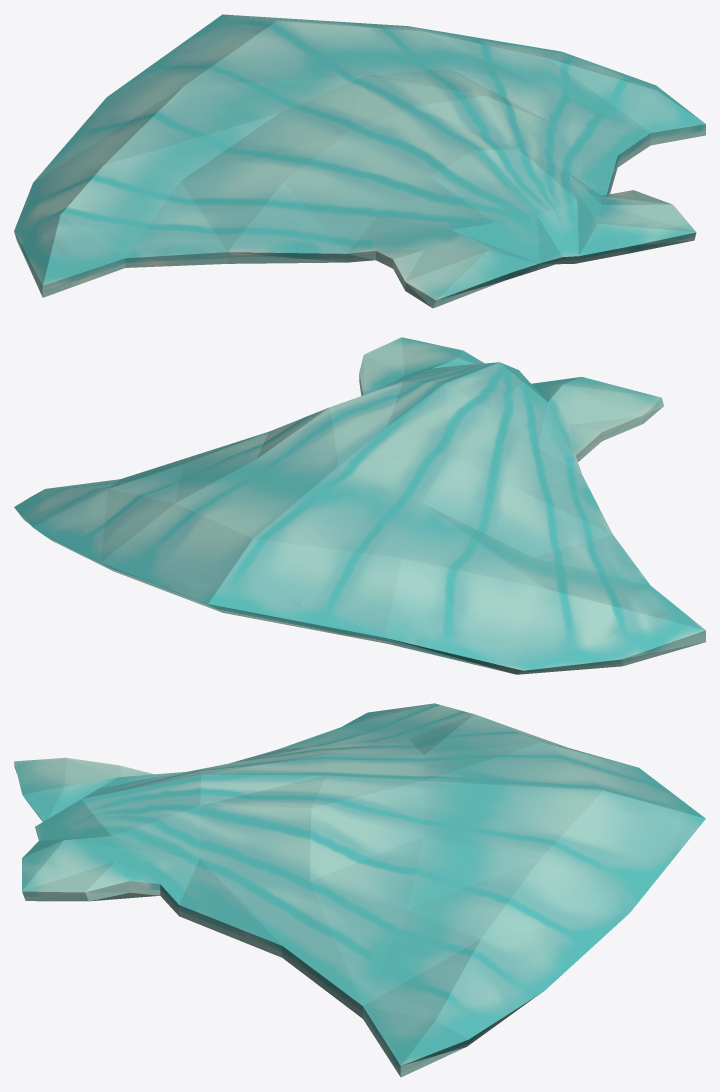
The model's file is Shell1.fbx.
The picture shows the model from 3 angles, top to bottom: view 1: azimuth 30°, elevation 25°; view 2: azimuth 150°, elevation 25°; view 3: azimuth 270°, elevation 25°; orthographic projection. The views are drawn at different scales.
Parts seen in each view (by area): view 1: pCube1; view 2: pCube1; view 3: pCube1.
Boxes of the visible parts, x1=… form: pCube1: x1=14, y1=14, x2=705, y2=308; pCube1: x1=14, y1=337, x2=705, y2=674; pCube1: x1=14, y1=703, x2=705, y2=1077.
Bounding box in the file's own units: 19.72 × 3.81 × 17.12.
Materials: 1 (1 with a texture image).
